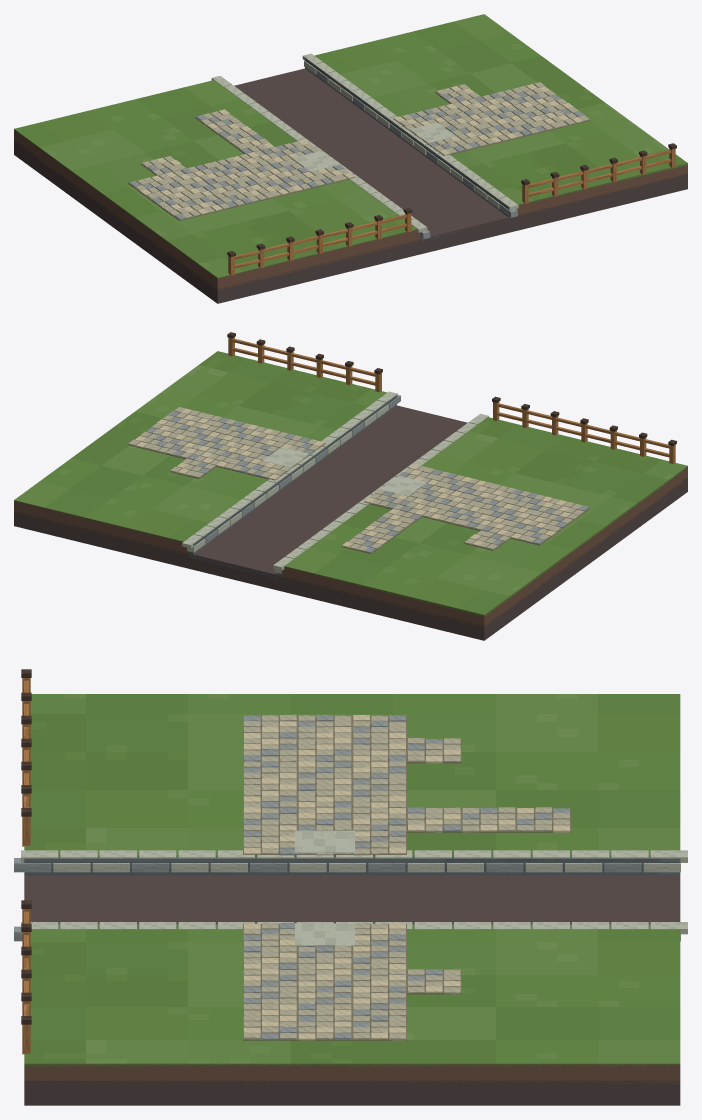
File: seed.glb
3 renders of one model, top to bottom at view 1: azimuth 30°, elevation 25°; view 2: azimuth 150°, elevation 25°; view 3: azimuth 270°, elevation 25°, orthographic. The views are drawn at different scales.
Visible parts, largest first — view 1: grass_geometry, soil_dark_geometry, path_geometry, soil_geometry, stone_light_geometry, stone_geometry, path_light_geometry, oak_geometry, path_dark_geometry, stone_dark_geometry, wood_dark_geometry; view 2: grass_geometry, soil_dark_geometry, path_geometry, soil_geometry, stone_light_geometry, stone_geometry, path_light_geometry, oak_geometry, path_dark_geometry, stone_dark_geometry, wood_dark_geometry; view 3: grass_geometry, soil_dark_geometry, path_geometry, stone_light_geometry, stone_geometry, soil_geometry, path_light_geometry, stone_dark_geometry, path_dark_geometry, oak_geometry, wood_dark_geometry.
Part boxes in pixels (x1,y1,x2,y2): grass_geometry: [14, 14, 687, 279]; soil_dark_geometry: [14, 68, 687, 303]; path_geometry: [135, 82, 589, 218]; soil_geometry: [14, 129, 687, 290]; stone_light_geometry: [211, 53, 518, 232]; stone_geometry: [129, 69, 584, 239]; path_light_geometry: [140, 84, 583, 214]; oak_geometry: [228, 148, 675, 275]; path_dark_geometry: [128, 84, 590, 220]; stone_dark_geometry: [305, 58, 509, 241]; wood_dark_geometry: [227, 143, 676, 256]; grass_geometry: [14, 351, 687, 616]; soil_dark_geometry: [14, 405, 687, 640]; path_geometry: [128, 407, 584, 551]; soil_geometry: [14, 466, 687, 627]; stone_light_geometry: [182, 391, 488, 573]; stone_geometry: [146, 395, 589, 552]; path_light_geometry: [135, 408, 571, 547]; oak_geometry: [228, 337, 675, 463]; path_dark_geometry: [128, 411, 590, 553]; stone_dark_geometry: [189, 395, 396, 578]; wood_dark_geometry: [227, 332, 676, 445]; grass_geometry: [24, 694, 680, 1066]; soil_dark_geometry: [24, 875, 680, 1105]; path_geometry: [244, 714, 570, 1040]; stone_light_geometry: [21, 830, 687, 946]; stone_geometry: [14, 715, 641, 1040]; soil_geometry: [24, 1064, 680, 1084]; path_light_geometry: [244, 715, 569, 1040]; stone_dark_geometry: [24, 856, 680, 924]; path_dark_geometry: [243, 716, 570, 1040]; oak_geometry: [22, 678, 30, 1054]; wood_dark_geometry: [21, 669, 31, 1024].
Bounding box in the file's own units: 16 × 1.54 × 12.33.
11 materials, 9 textured.
